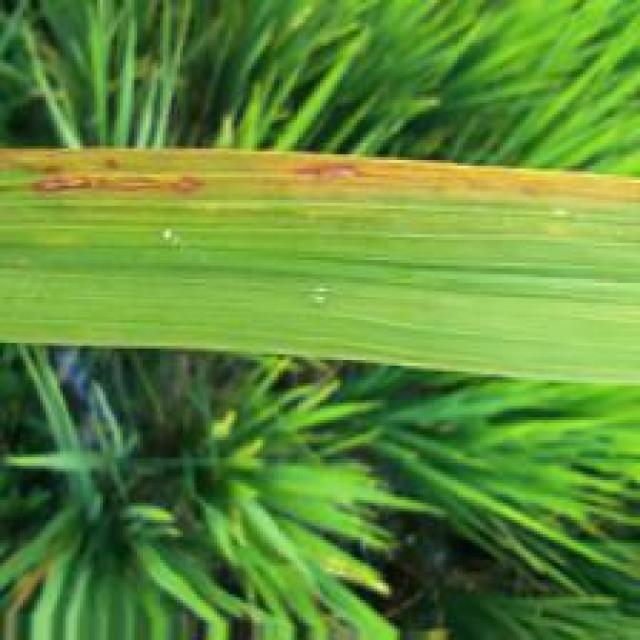Rice Tungro: (0, 143, 640, 204)
